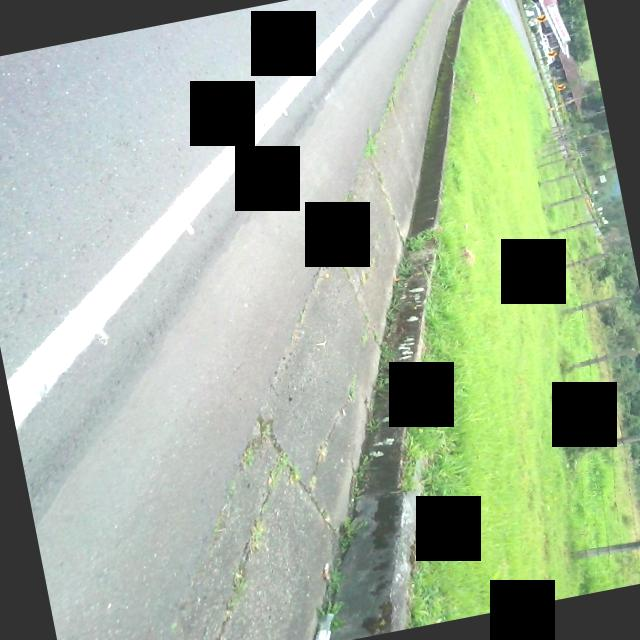DITCH: (0, 0, 616, 640), (0, 0, 565, 640)
